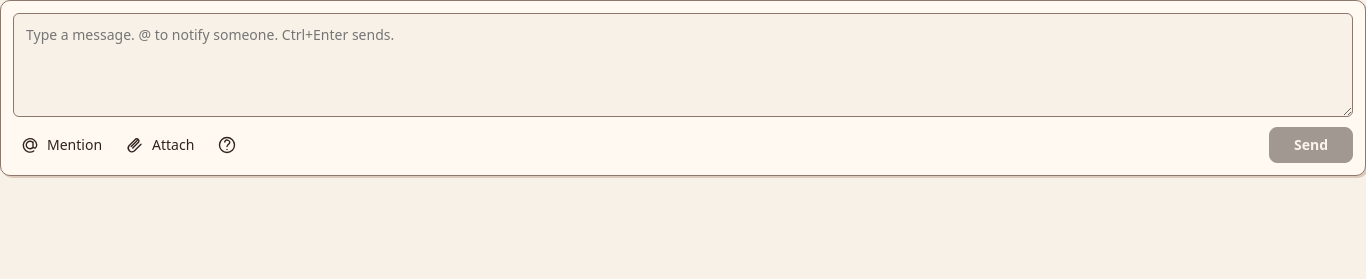
Test case: Composer send › surfaces unresolved_mentions in a banner while the message still posts
Type "hi @nobody" into the text box with test id "composer-text". click: [683, 65]
box: [13,13,1353,117]
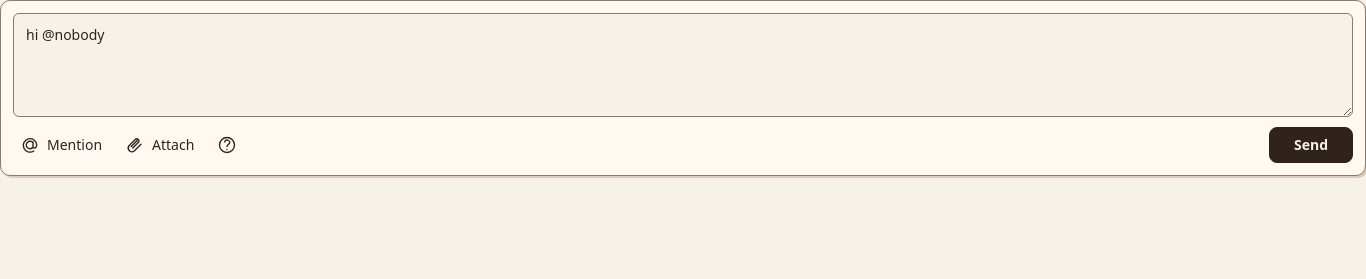
Press r in the text box with test id "composer-text", box [13,13,1353,117]
Click the button with test id "composer-send". click: [1311, 145]
box: [1269,127,1353,163]
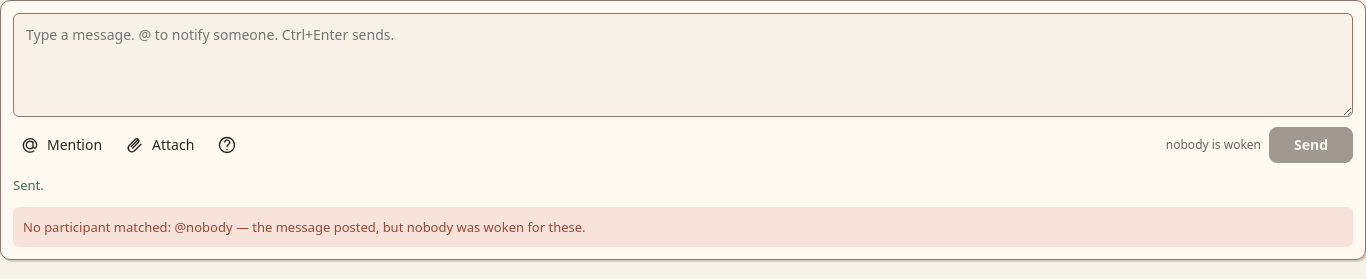
Now the message with test id "unresolved-banner" shows "@nobody", box [174,218,232,236]
